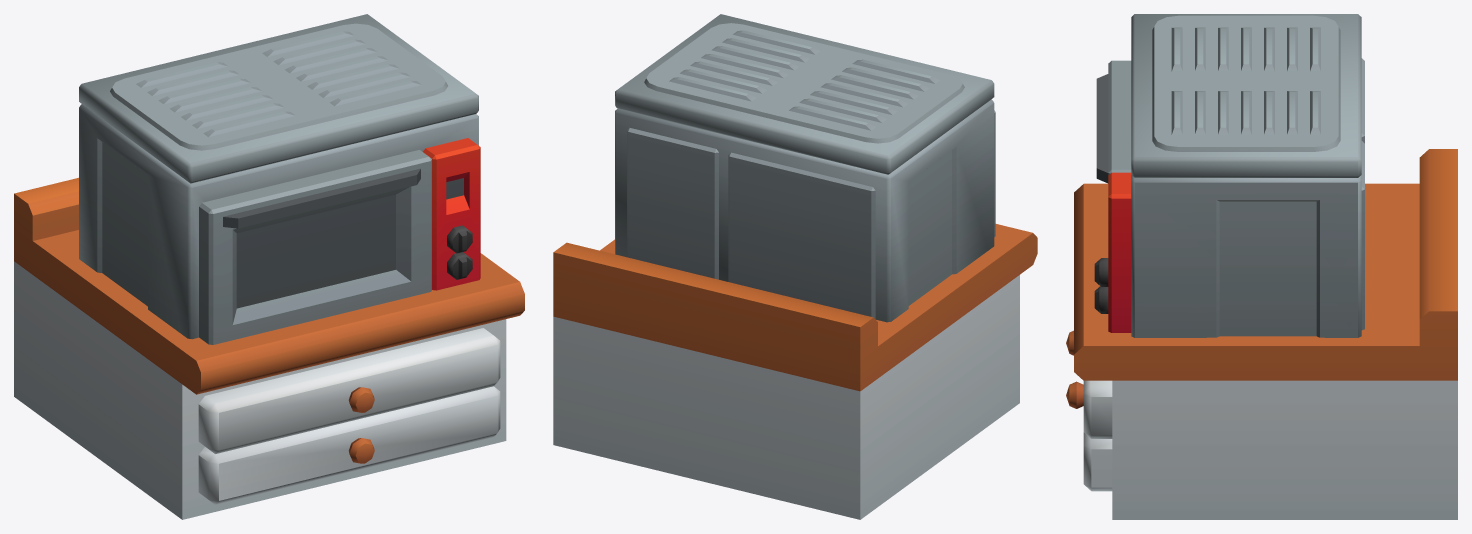
The model's file is oven_counter.glb.
The picture shows the model from 3 angles, left to right: view 1: azimuth 30°, elevation 25°; view 2: azimuth 150°, elevation 25°; view 3: azimuth 270°, elevation 25°; orthographic projection. The views are drawn at different scales.
Visible parts, largest first — view 1: kitchencounter_straight_A_backsplash, pizza_oven, pizza_oven_door; view 2: kitchencounter_straight_A_backsplash, pizza_oven; view 3: kitchencounter_straight_A_backsplash, pizza_oven, pizza_oven_door.
Part boxes in pixels (x1,y1,x2,y2): kitchencounter_straight_A_backsplash: (14,177,524,519); pizza_oven: (79,14,480,339); pizza_oven_door: (199,150,431,344); kitchencounter_straight_A_backsplash: (553,224,1037,519); pizza_oven: (615,14,994,322); kitchencounter_straight_A_backsplash: (1066,149,1457,519); pizza_oven: (1094,14,1364,337); pizza_oven_door: (1096,60,1131,183).
Bounding box in the file's own units: 2 × 2.07 × 2.04.
2 materials, 2 textured.
